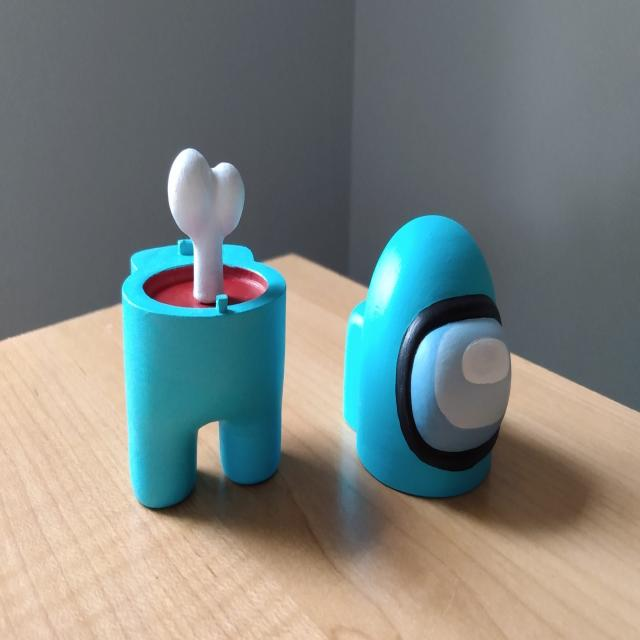Without deffect: (106, 140, 528, 540)
